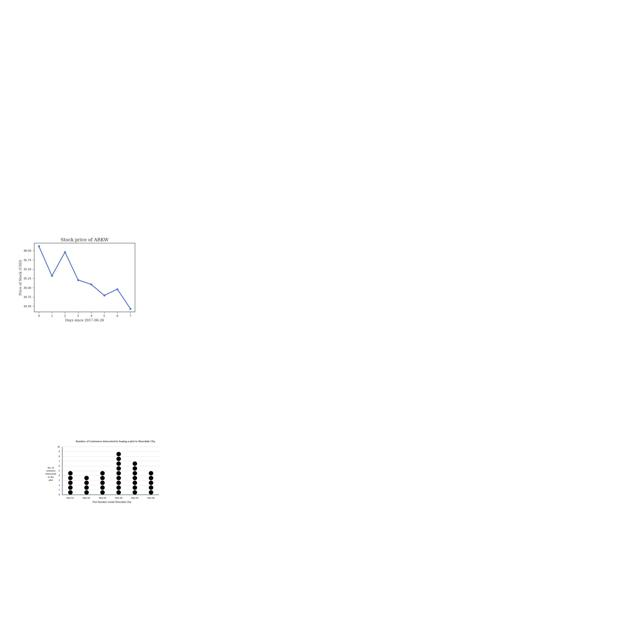Graph: (18, 228, 148, 326), (44, 439, 160, 505)
